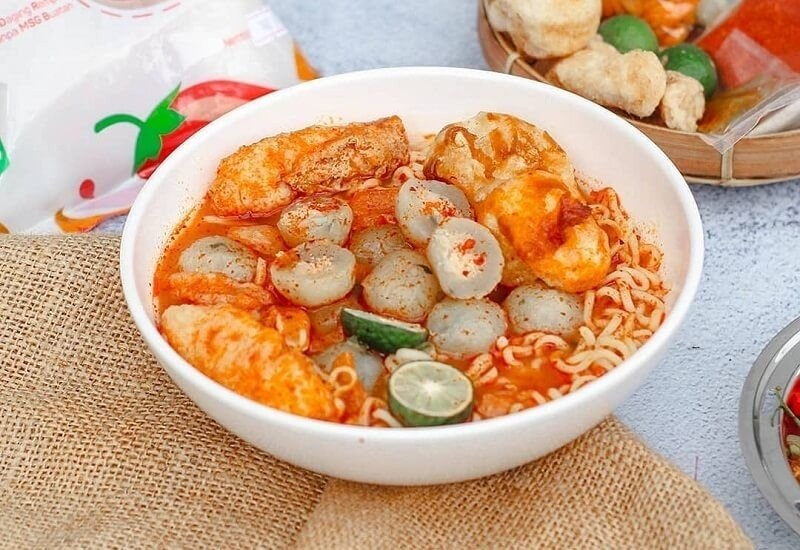seblak: (152, 111, 668, 427)
